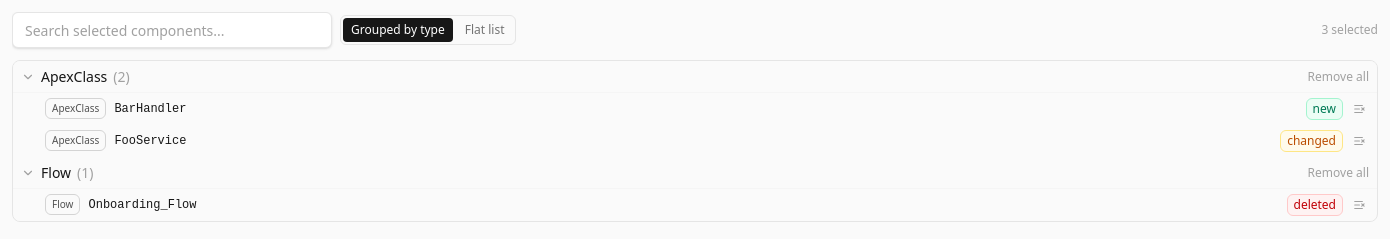
Test: SelectedComponentsView (cross-type "what am I about to deploy?" screen) › switching to "Flat list" removes the type group headers (no more "Remove all" group controls)
expect the 1st button "Remove all" is shown: met, box [1308,68,1369,84]
Click the button "Flat list" at (485,30), box [457,18,513,42]
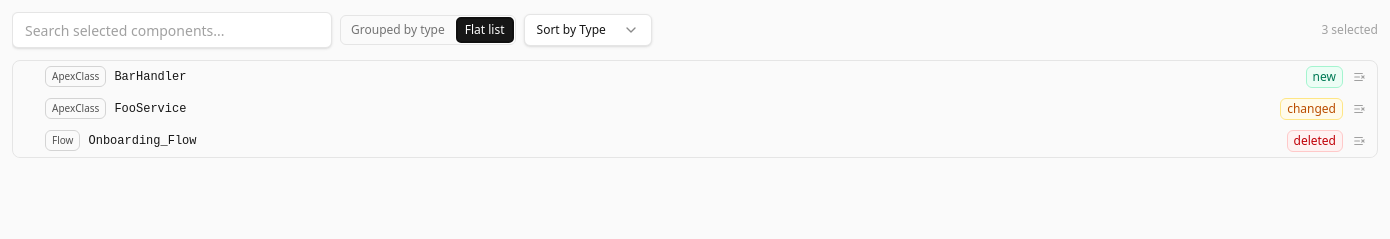
expect the text "FooService" is shown: met, box [114,102,186,116]
expect the button "Remove all" is gone: met
